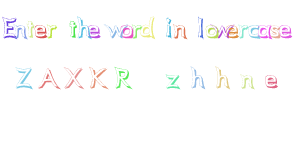A: (37, 67, 60, 90)
E: (1, 14, 18, 40)
K: (88, 66, 109, 90)
R: (114, 66, 133, 90)
X: (64, 66, 85, 89)
Z: (14, 66, 33, 90)
a: (259, 24, 272, 40)
c: (248, 24, 259, 40)
d: (140, 14, 156, 38)
e: (264, 72, 278, 89), (33, 23, 47, 39), (87, 23, 101, 39), (278, 24, 292, 39), (227, 24, 238, 39)
h: (189, 65, 205, 89), (215, 65, 230, 89), (77, 13, 89, 39)
i: (163, 16, 172, 38)
l: (194, 15, 206, 39)
n: (13, 24, 28, 39), (173, 23, 187, 39), (241, 73, 254, 88)
o: (119, 24, 133, 38), (205, 25, 219, 39)
r: (46, 23, 58, 39), (238, 24, 248, 40), (131, 24, 142, 38)
s: (269, 24, 280, 40)
t: (26, 19, 36, 37), (68, 20, 77, 38)
w: (104, 23, 125, 38), (215, 25, 230, 39)
z: (165, 73, 181, 89)
